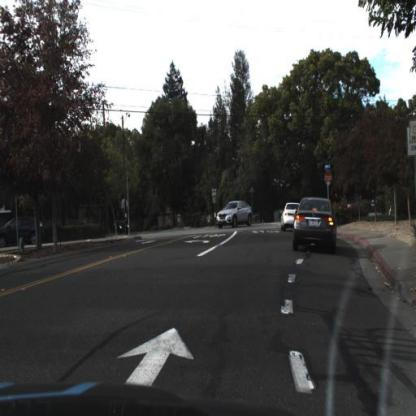car: (291, 197, 335, 250), (1, 215, 44, 252), (215, 200, 255, 227), (281, 201, 306, 229)
